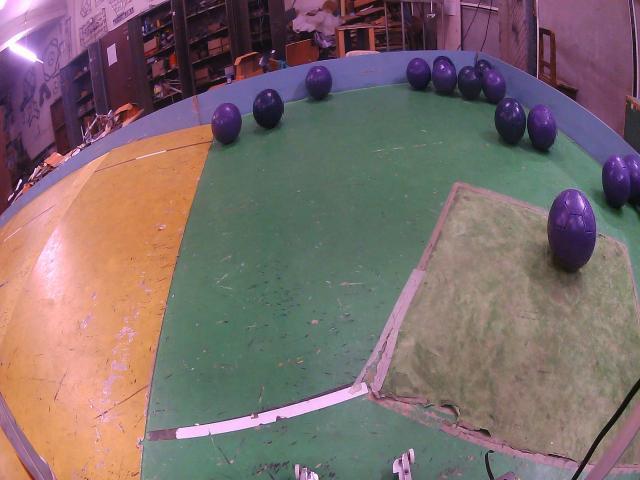jambhalya: (547, 188, 597, 272), (603, 155, 640, 208), (603, 155, 631, 208), (527, 105, 557, 151), (212, 104, 241, 144), (305, 67, 332, 99), (432, 60, 456, 95), (406, 58, 431, 90), (483, 70, 506, 103)
kaalyya: (495, 99, 526, 143), (254, 89, 283, 128), (458, 65, 482, 100), (475, 58, 493, 77), (434, 56, 453, 66)
